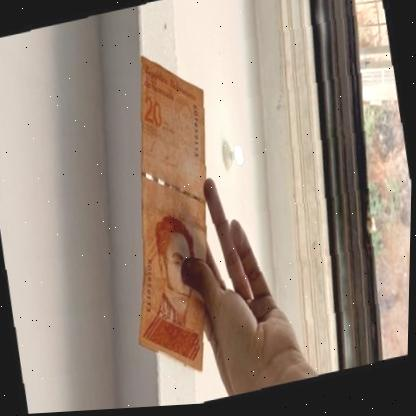twenty-front-vef: (93, 41, 248, 389)
